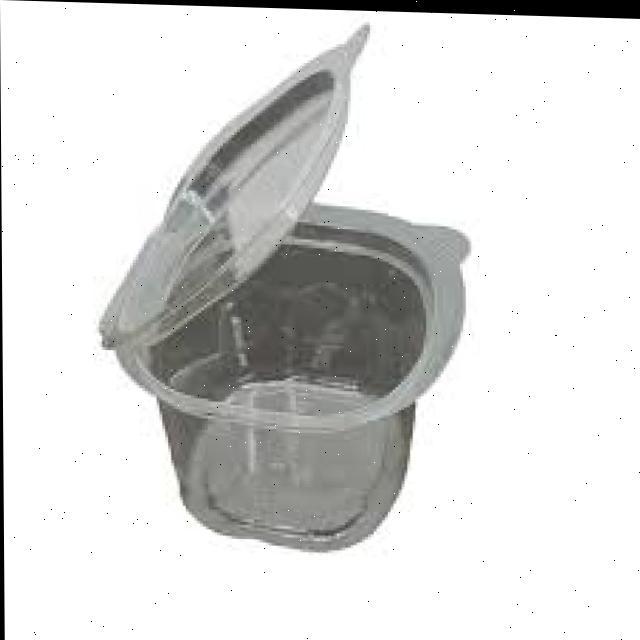disposable: (97, 192, 497, 570)
